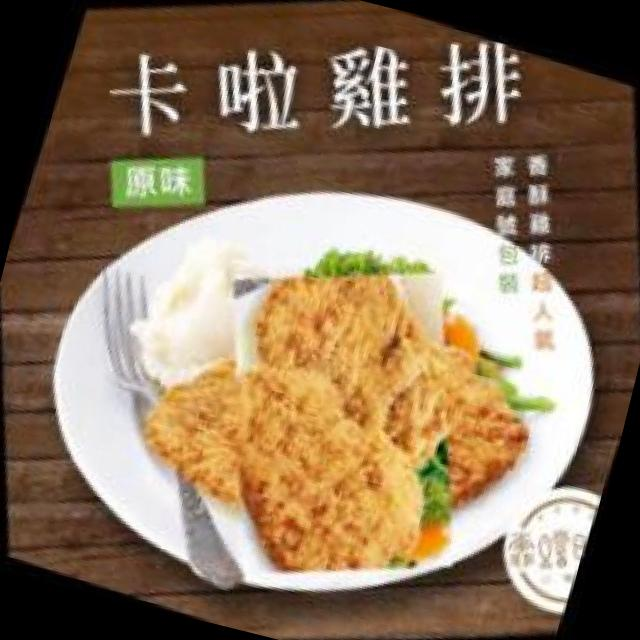fried_chicken: (132, 214, 550, 632)
